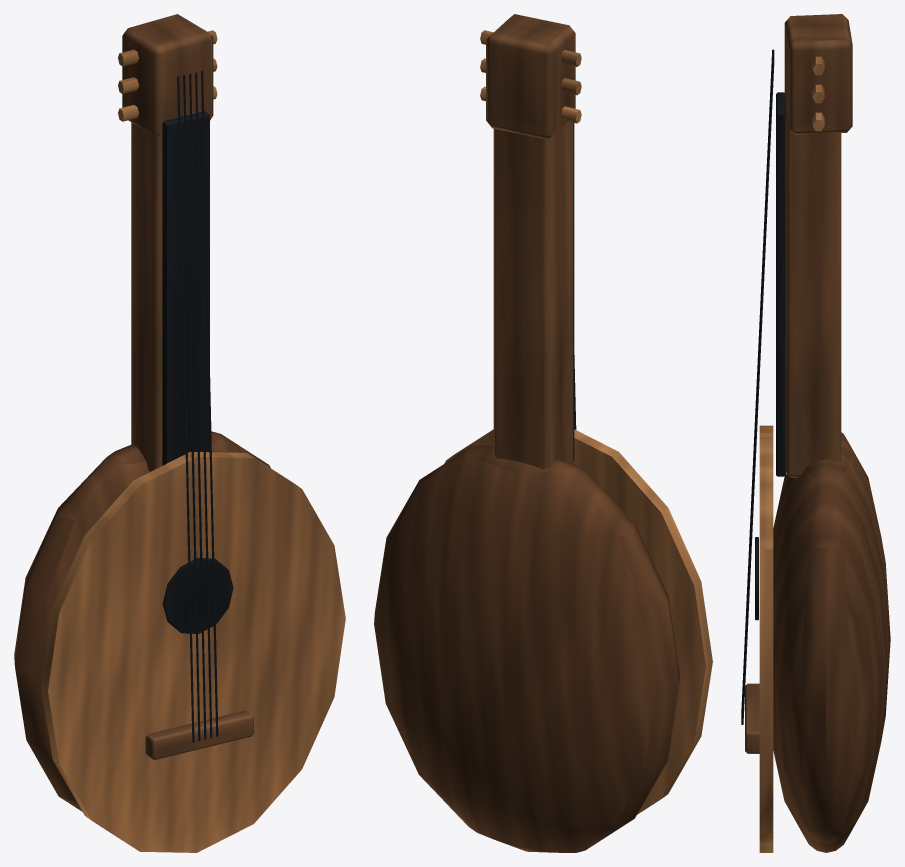
The model's file is Furn_Music_Lute.fbx.
3 views of the same model, side by side, from view 1: azimuth 30°, elevation 25°; view 2: azimuth 150°, elevation 25°; view 3: azimuth 270°, elevation 25° (orthographic). The views are drawn at different scales.
Visible parts, largest first — view 1: Furn_Music_Lute; view 2: Furn_Music_Lute; view 3: Furn_Music_Lute.
Part boxes in pixels (bbox=[...]): Furn_Music_Lute: bbox=[14, 14, 345, 852]; Furn_Music_Lute: bbox=[374, 14, 712, 852]; Furn_Music_Lute: bbox=[741, 14, 890, 852].
Size of the model in its own units: 0.35 by 0.9 by 0.15.
Materials: 3 (3 with a texture image).
